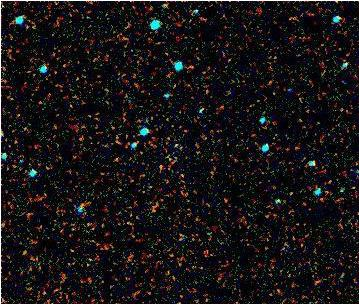star: (145, 154, 175, 184)
